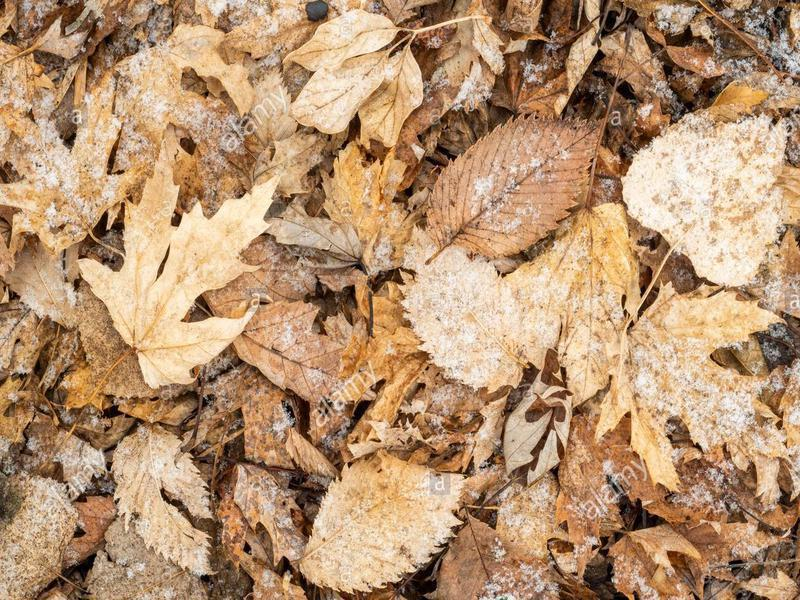leaf: (71, 159, 280, 386), (589, 284, 795, 492), (617, 101, 791, 287), (393, 221, 554, 402), (417, 107, 608, 258), (296, 451, 469, 600), (279, 7, 456, 152), (106, 419, 224, 578)
